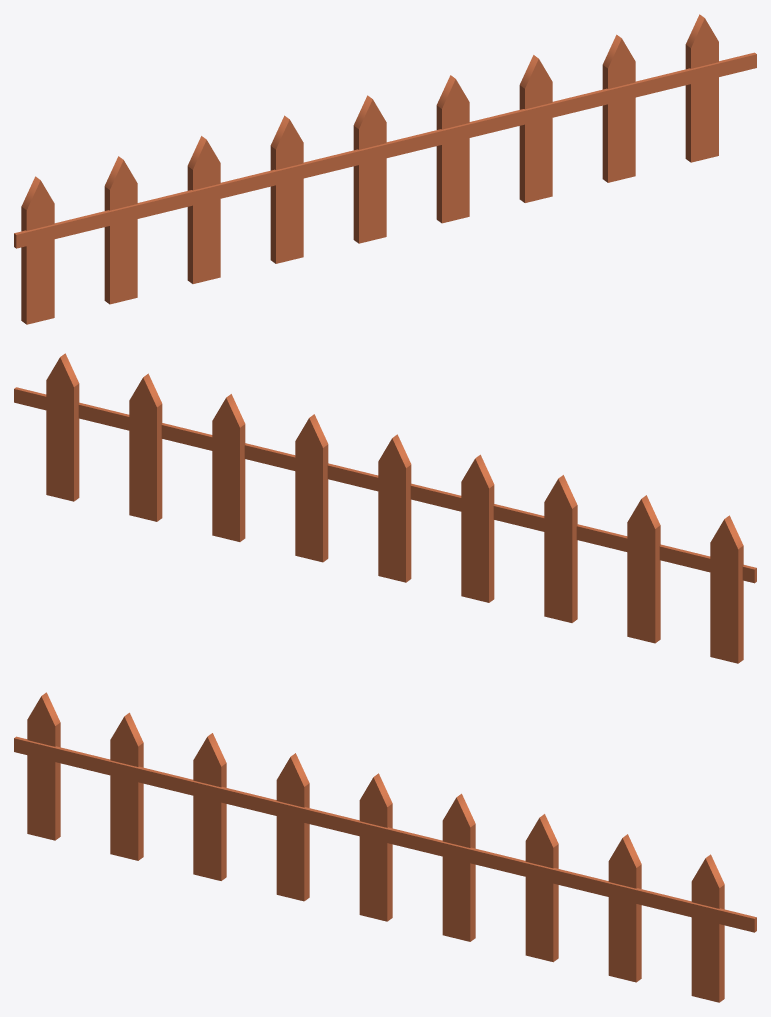
Rendered from Wooden_fence_2.FBX.
The picture shows the model from 3 angles, top to bottom: view 1: azimuth 30°, elevation 25°; view 2: azimuth 150°, elevation 25°; view 3: azimuth 330°, elevation 25°; orthographic projection.
Parts seen in each view (by area): view 1: Wooden fence 02; view 2: Wooden fence 02; view 3: Wooden fence 02.
Boxes of the visible parts, box(x1,y1,x2,y2) form: Wooden fence 02: box(14, 14, 756, 324); Wooden fence 02: box(14, 353, 756, 663); Wooden fence 02: box(14, 692, 756, 1002).
Bounding box in the file's own units: 9.89 × 1.8 × 0.1572.
1 material, 1 textured.
